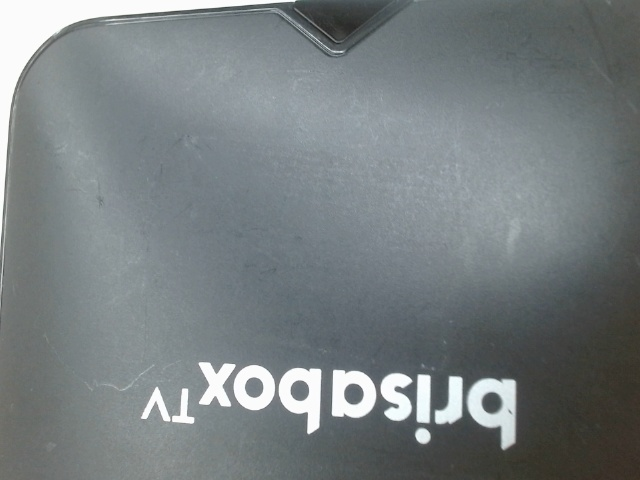AH_brisabox: (128, 345, 544, 461)
